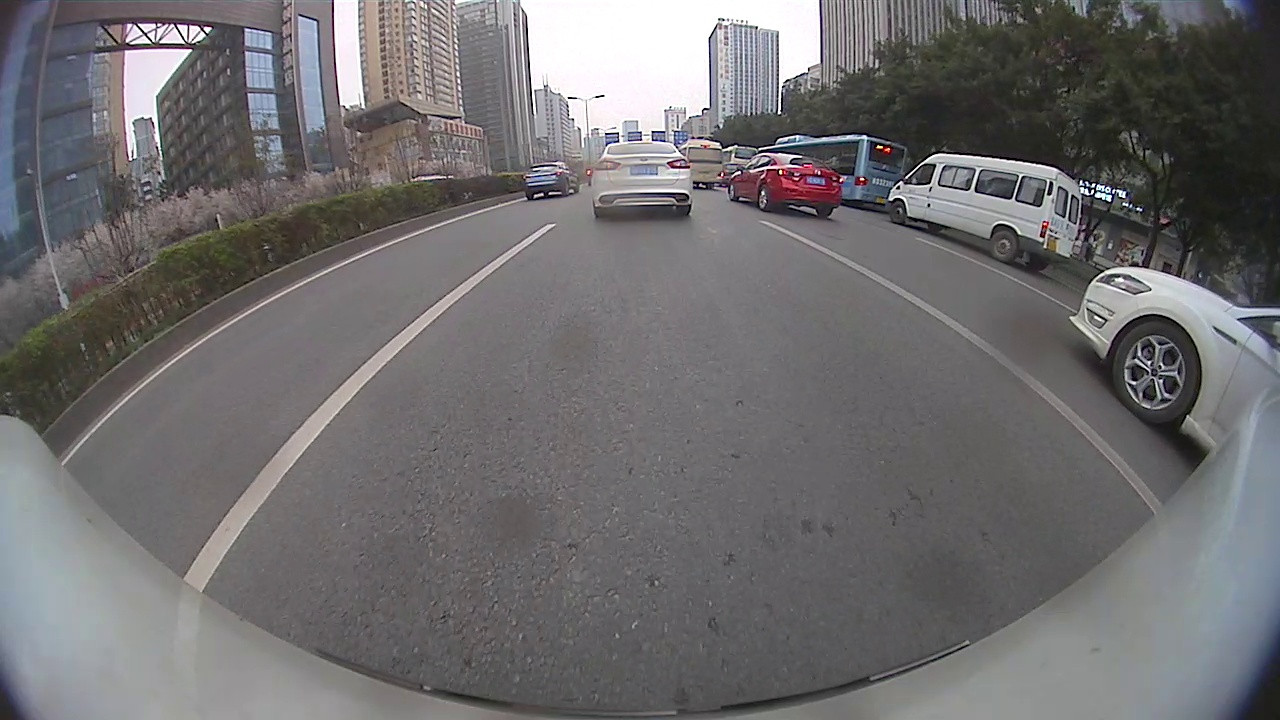bus: (759, 134, 905, 207), (680, 141, 725, 188)
car: (1065, 268, 1279, 454), (886, 150, 1083, 268), (589, 141, 693, 218), (729, 153, 844, 219), (522, 159, 581, 200)
front: (1109, 318, 1202, 426), (887, 201, 908, 224), (726, 182, 736, 203)
rear: (987, 227, 1019, 262), (754, 183, 772, 210)
